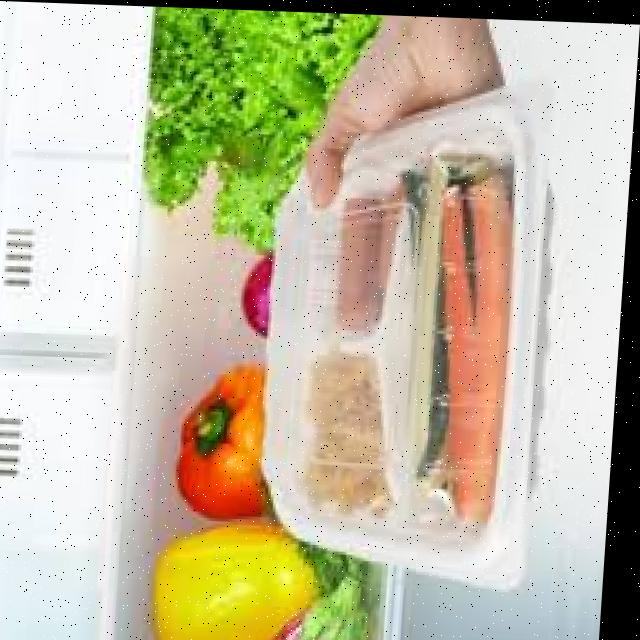disposable: (243, 64, 592, 590)
